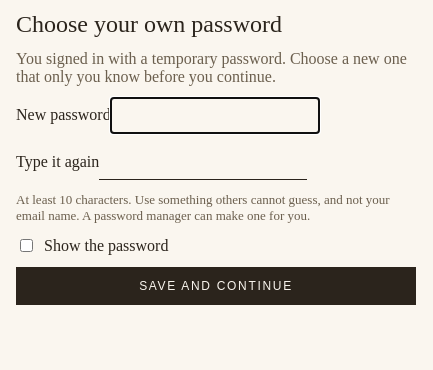
Scenario: ChangePassword › shows the server's refusal and lets the person try again
Type "Tulip-Harbour-48" into the password field labelled "New password" at [215, 116], box [111,98,319,133]
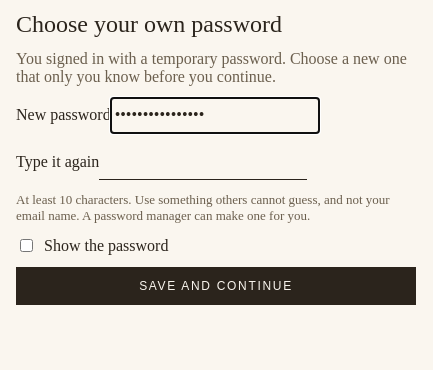
Type "Tulip-Harbour-48" into the password field labelled "Type it again" at [203, 162], box [99,145,307,180]
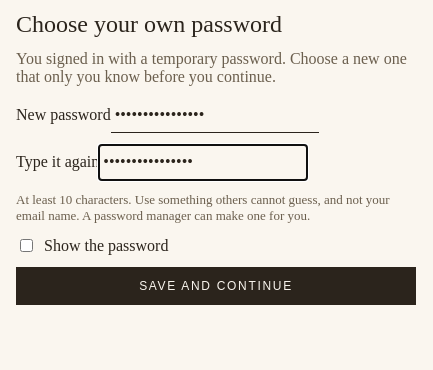
Click the button "Save and continue" at [216, 286], box [16,267,416,305]
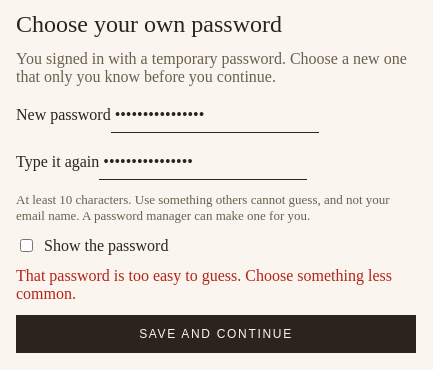
Expected: the button "Save and continue" is enabled, [16,315,416,353]
Now the message shows "too easy to guess", box [16,267,392,302]
